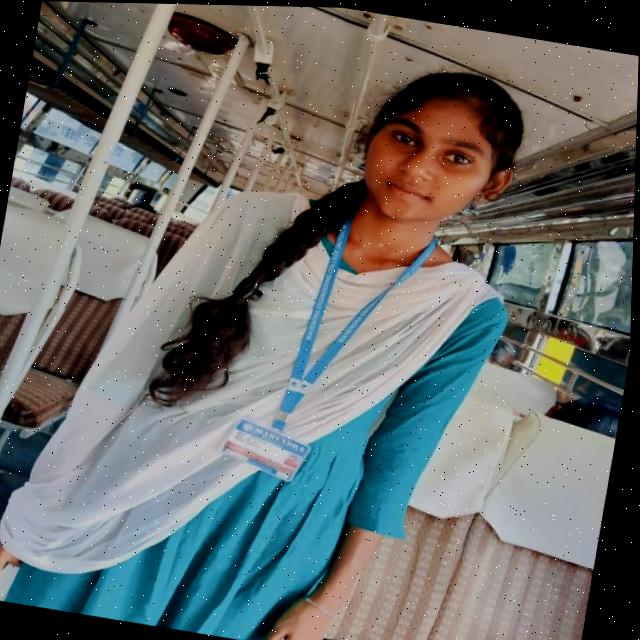id_card: (219, 202, 454, 502)
